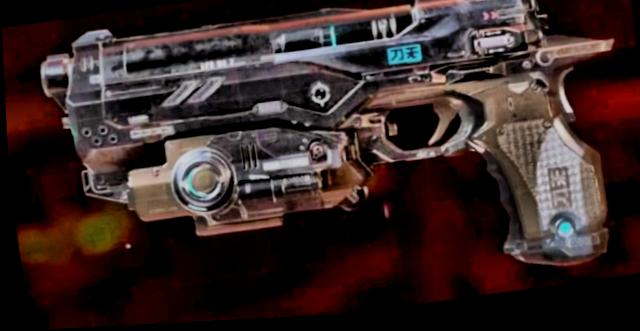pistol: (28, 0, 637, 327)
